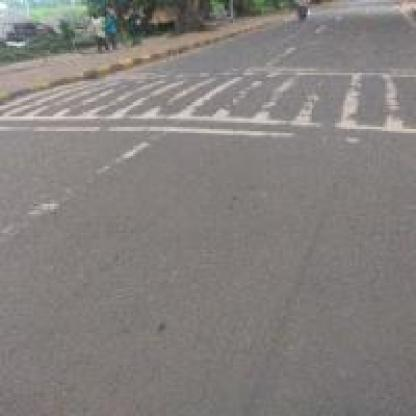Speed Bump: (0, 54, 414, 156)
